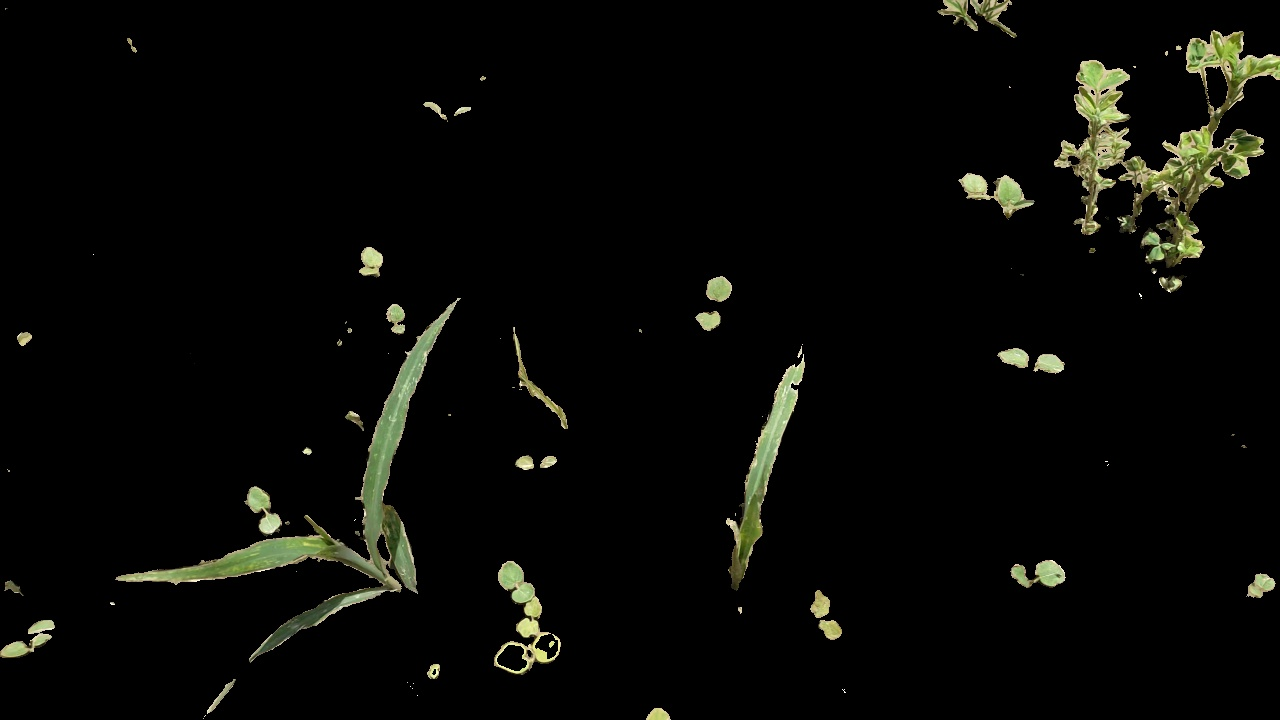crop: (104, 535, 441, 654), (300, 349, 430, 607), (712, 349, 809, 594)
weed: (1062, 26, 1280, 294), (476, 552, 570, 680), (944, 170, 1032, 224), (923, 1, 1029, 39), (800, 585, 854, 650), (1000, 546, 1069, 592), (692, 271, 737, 341), (998, 341, 1070, 384), (1, 613, 65, 661), (240, 485, 285, 534), (422, 101, 478, 126), (355, 231, 383, 281), (511, 453, 563, 476), (379, 302, 406, 340), (1247, 569, 1275, 601)
